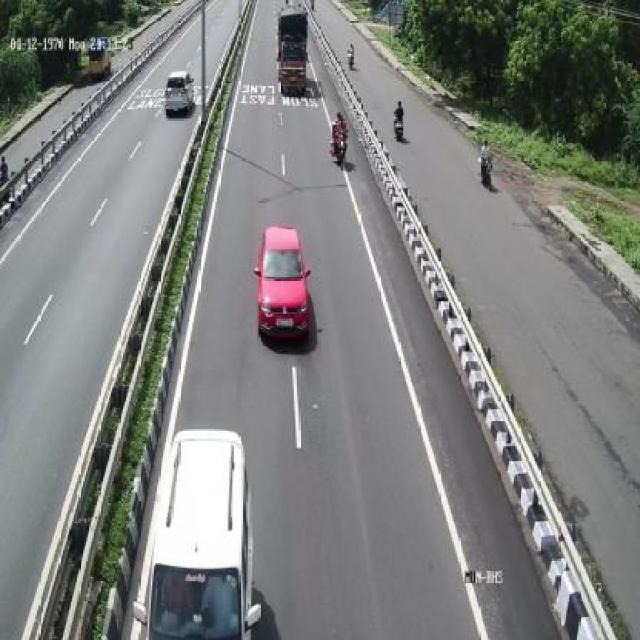car: (148, 415, 257, 640), (255, 217, 314, 351), (165, 71, 203, 114)
